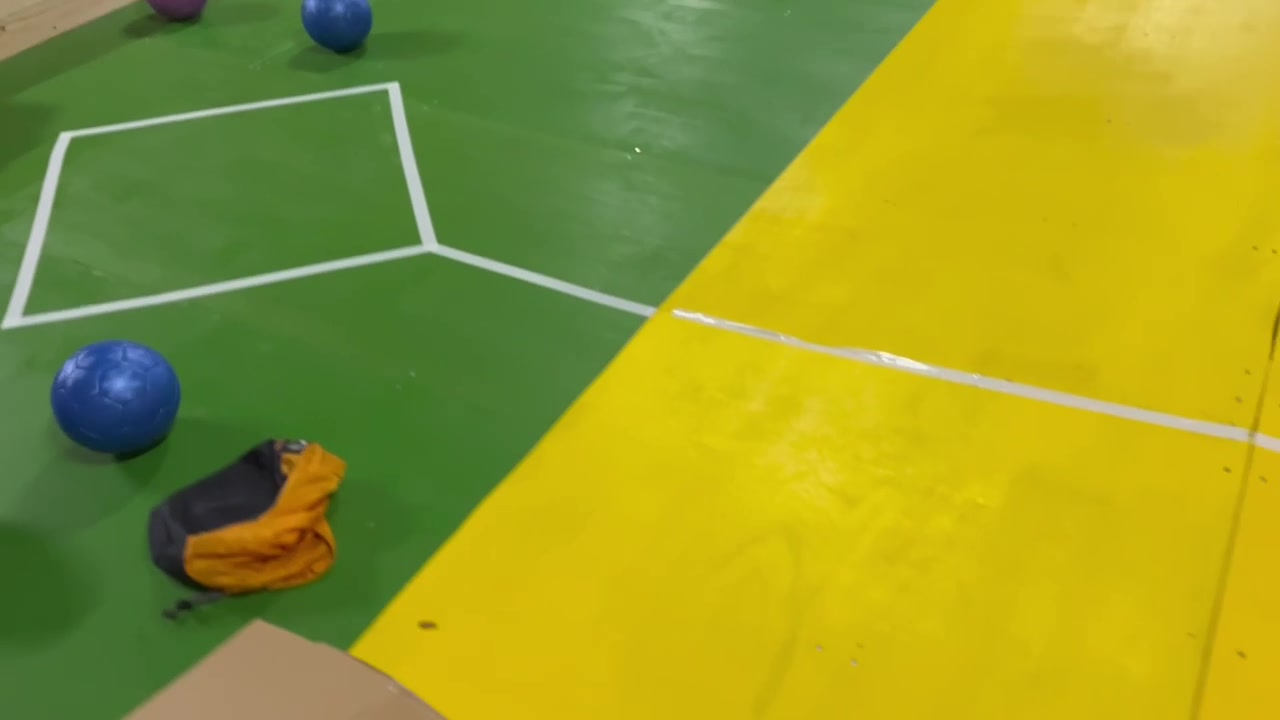blue: (35, 325, 193, 472), (299, 0, 387, 68)
